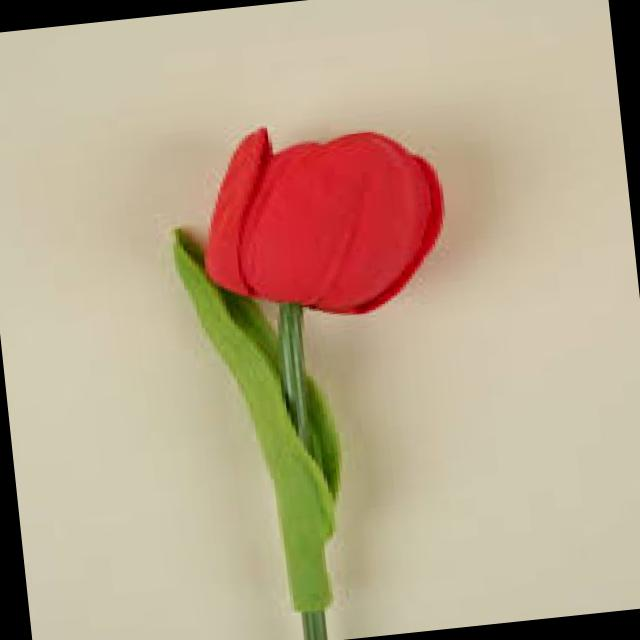tulip: (141, 98, 476, 350)
